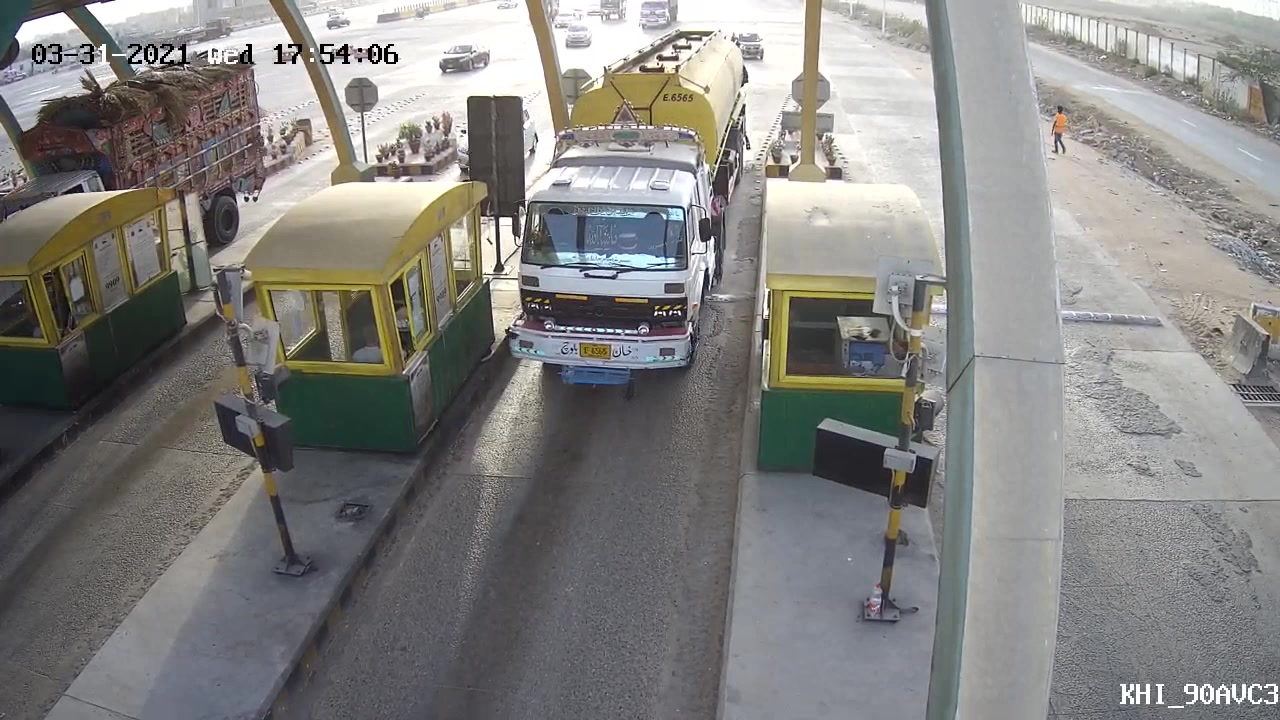F6: (509, 19, 756, 395)
